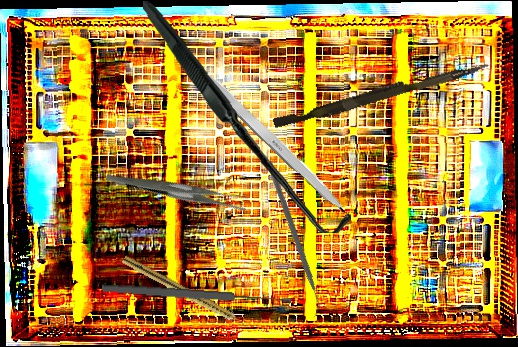Chopper: (208, 160, 375, 320)
Dressing Forceps: (105, 133, 252, 246)
Handpiece: (120, 254, 250, 332)
Hook Surgical: (135, 1, 358, 234)
Pusher: (272, 53, 490, 135)
Scalpel Handle: (177, 47, 353, 218)
Surgical Spoon: (101, 282, 292, 307)
